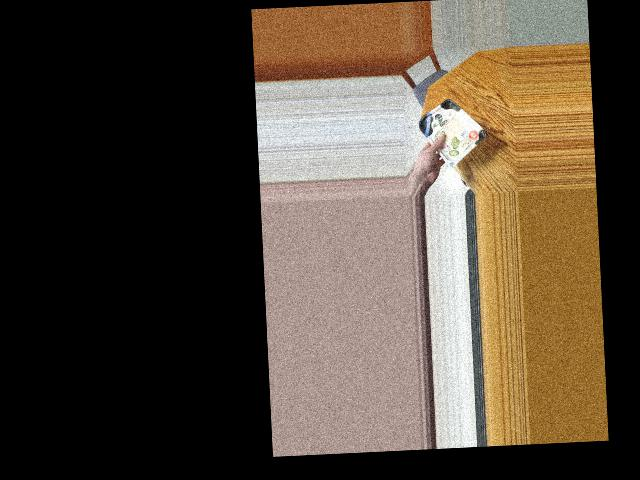cheese: (422, 97, 480, 157)
